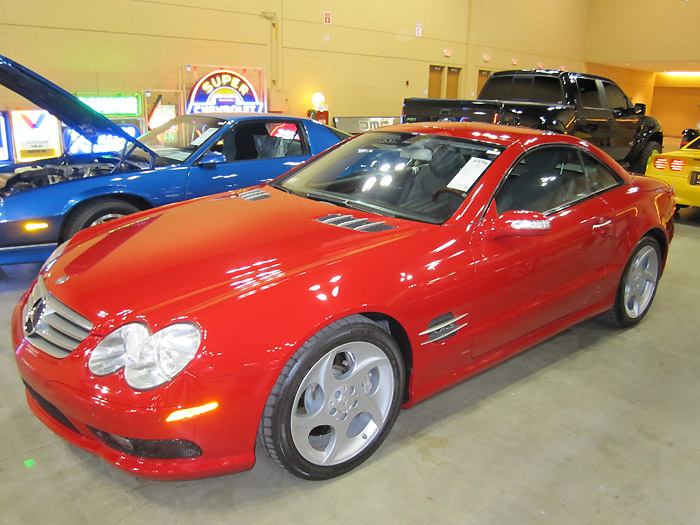Car: (6, 98, 676, 489), (1, 71, 356, 280), (395, 51, 663, 163), (640, 110, 700, 220)
